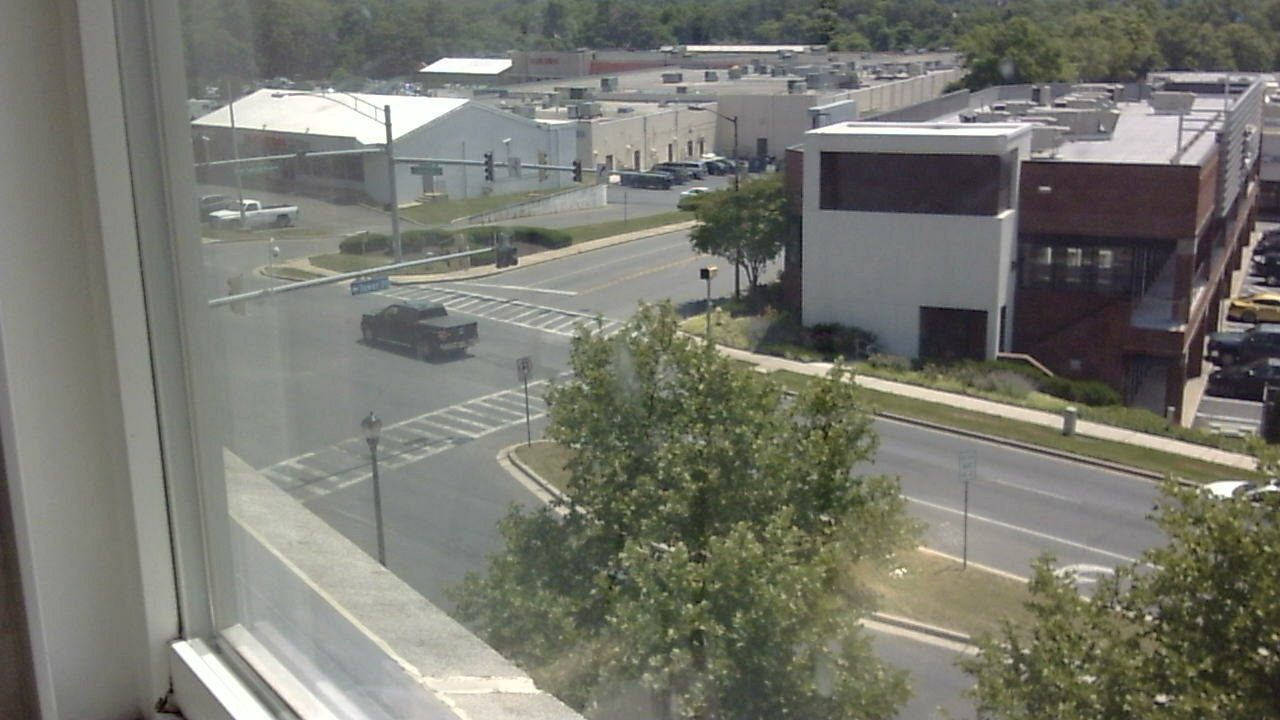Car: (1200, 467, 1280, 539)
Truck: (362, 296, 497, 380)
